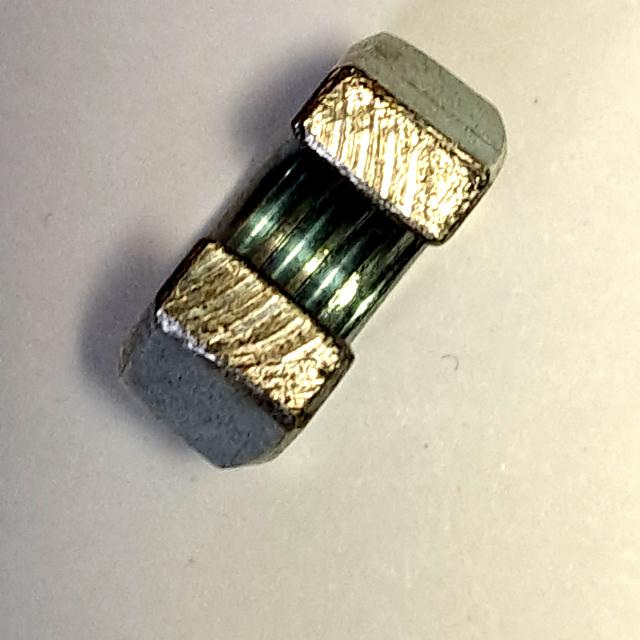Side-Fracture: (102, 19, 522, 484)
